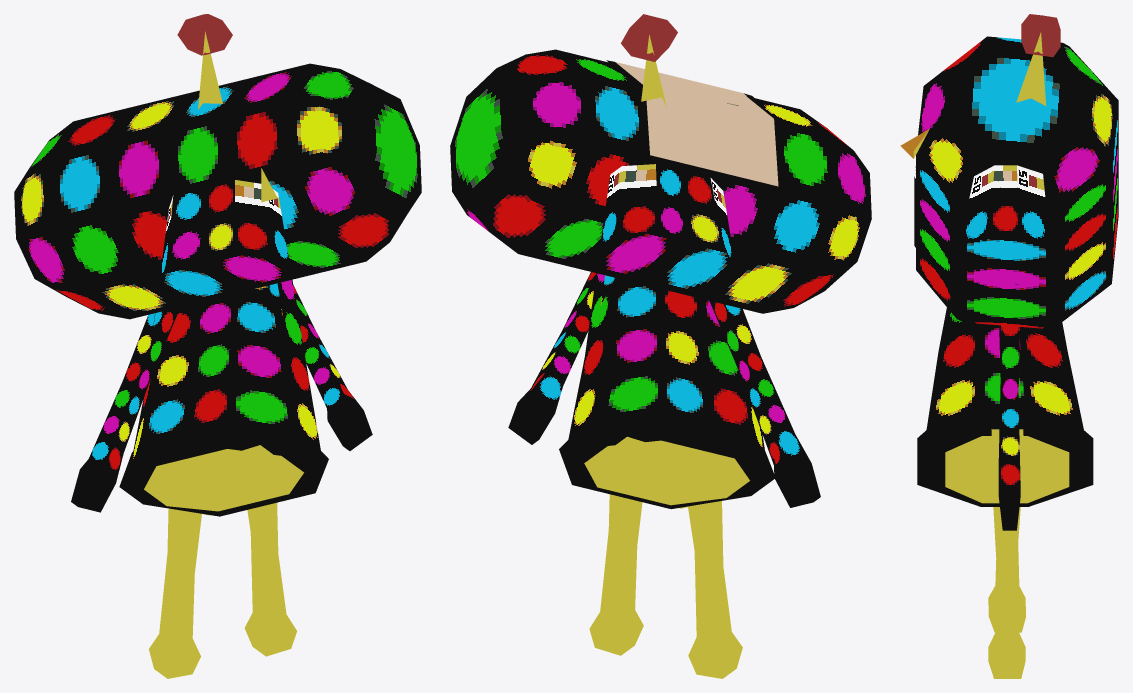
The model's file is 06b1_Dipp.glb.
3 views of the same model, side by side, from view 1: azimuth 30°, elevation 25°; view 2: azimuth 150°, elevation 25°; view 3: azimuth 270°, elevation 25° (orthographic). The views are drawn at different scales.
Parts seen in each view (by area): view 1: part_0; view 2: part_0; view 3: part_0.
Part boxes in pixels (x1=…): part_0: x1=14, y1=14, x2=421, y2=678; part_0: x1=450, y1=14, x2=871, y2=678; part_0: x1=900, y1=14, x2=1118, y2=678.
Bounding box in the file's own units: 0.627 × 0.9972 × 0.311.
1 material, 1 textured.
